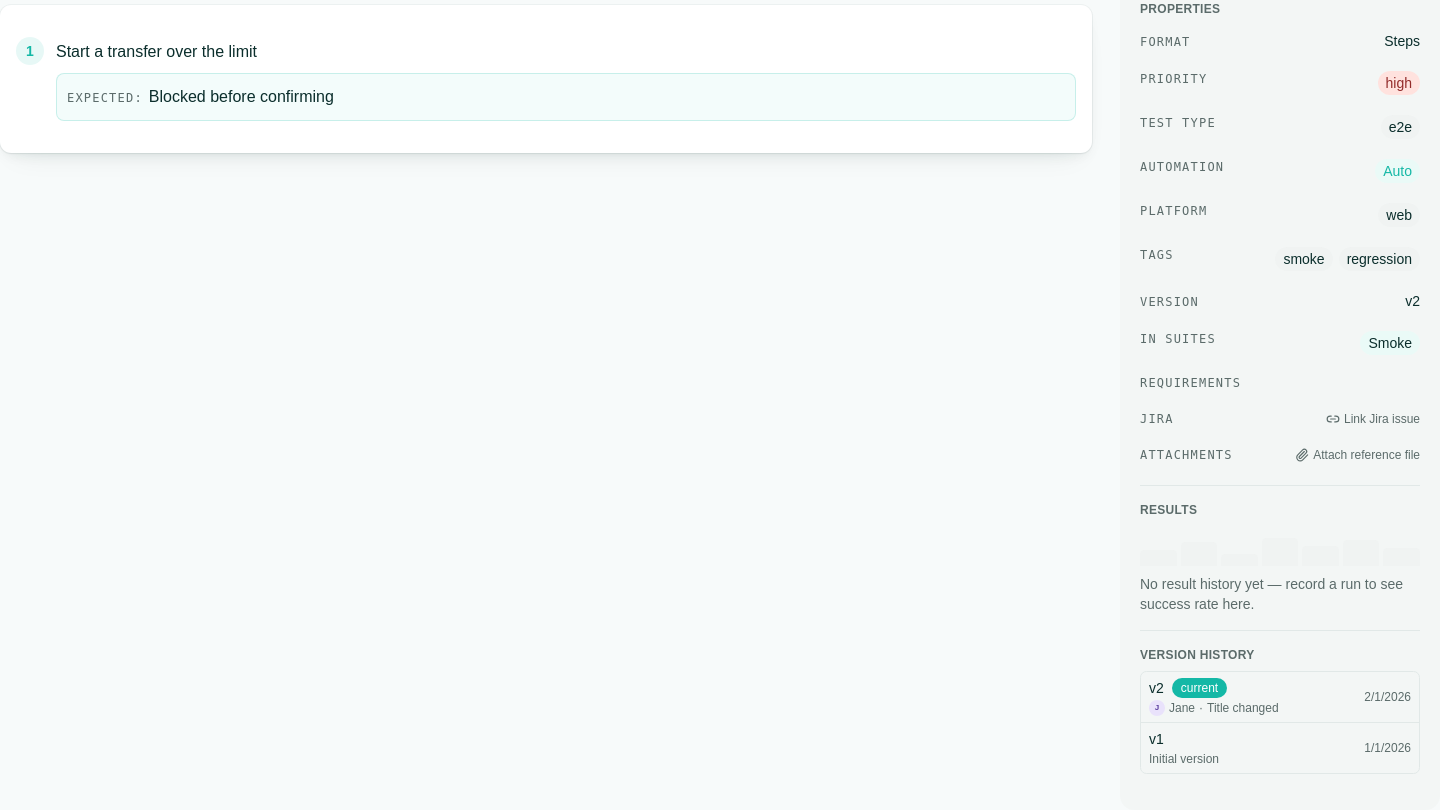
Scenario: CaseDetailPage › does not repeat the version author in the expanded diff panel
The width and height of the screenshot is (1440, 810).
(page scrolled)
Click the text "v2" below "Version history". click: (1156, 688)
box: [1149, 678, 1164, 698]
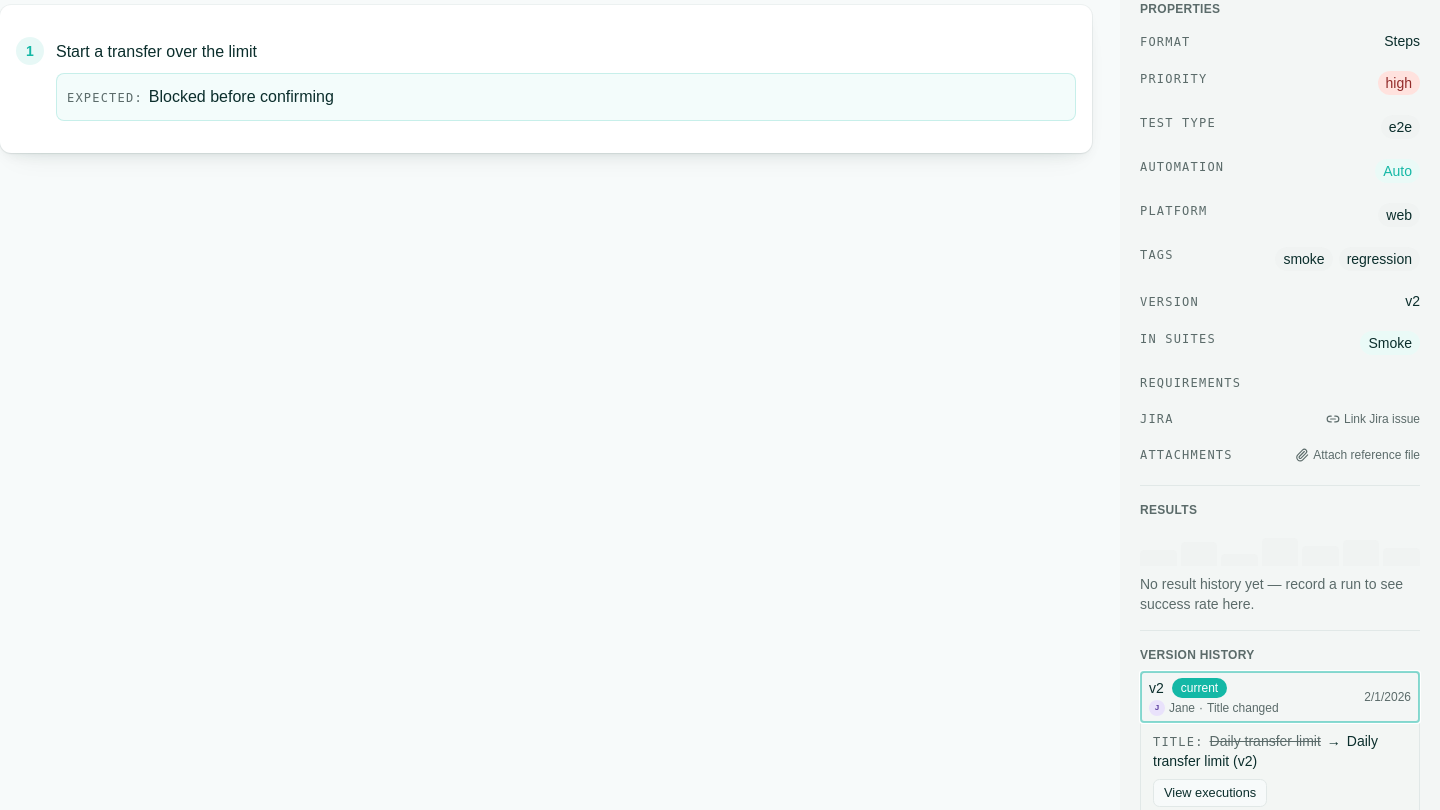
Check: the text "Daily transfer limit (v2)" is shown, box [1153, 733, 1378, 769]
Check: the text "Jane" is shown once, box [1169, 700, 1195, 716]
